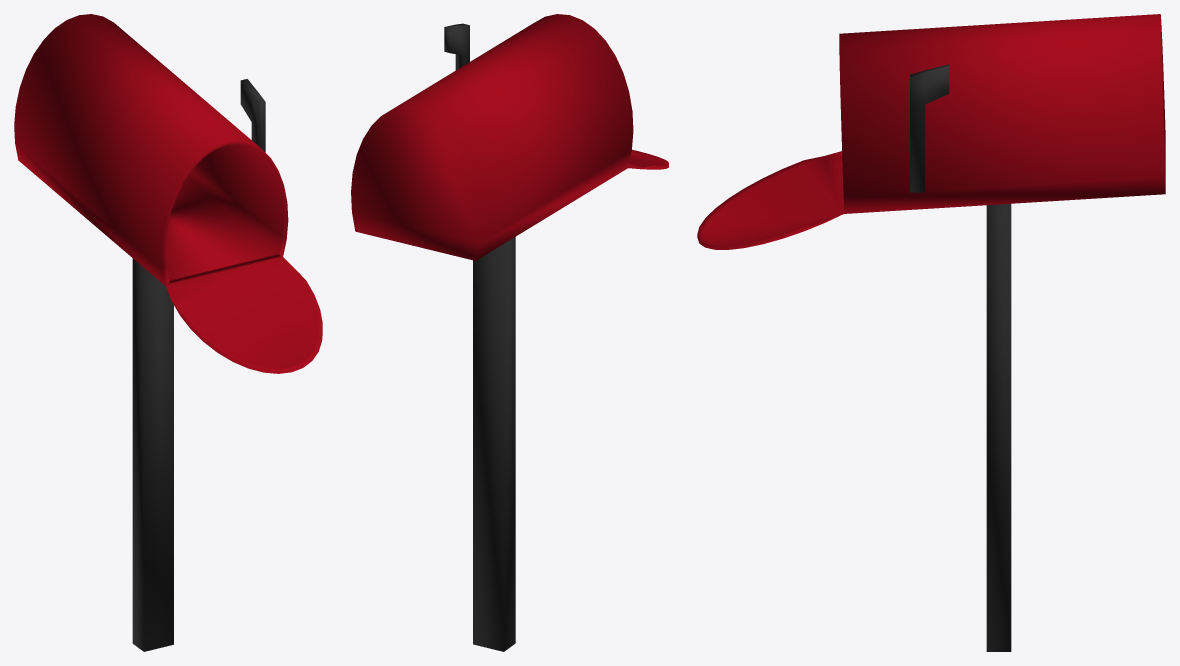
File: posta kutusu.fbx
3 renders of one model, left to right at view 1: azimuth 30°, elevation 25°; view 2: azimuth 150°, elevation 25°; view 3: azimuth 270°, elevation 25°, orthographic. The views are drawn at different scales.
Visible parts, largest first — view 1: Cube.001; view 2: Cube.001; view 3: Cube.001.
Part boxes in pixels (box(x1,y1,x2,y2)): Cube.001: box(14, 14, 322, 651); Cube.001: box(351, 14, 668, 651); Cube.001: box(697, 14, 1165, 651).
Size of the model in its own units: 399 by 1628 by 1105.
